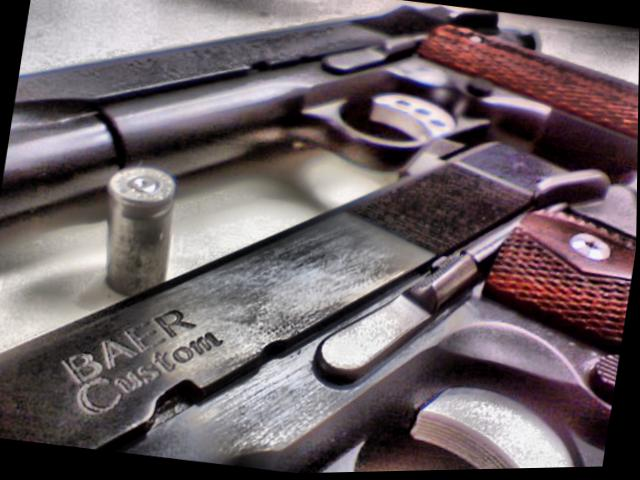pistol: (0, 70, 639, 480), (0, 0, 640, 310)
